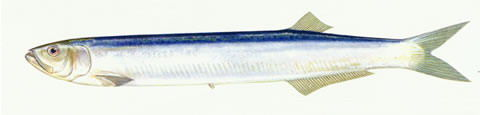fish: (25, 11, 471, 96)
